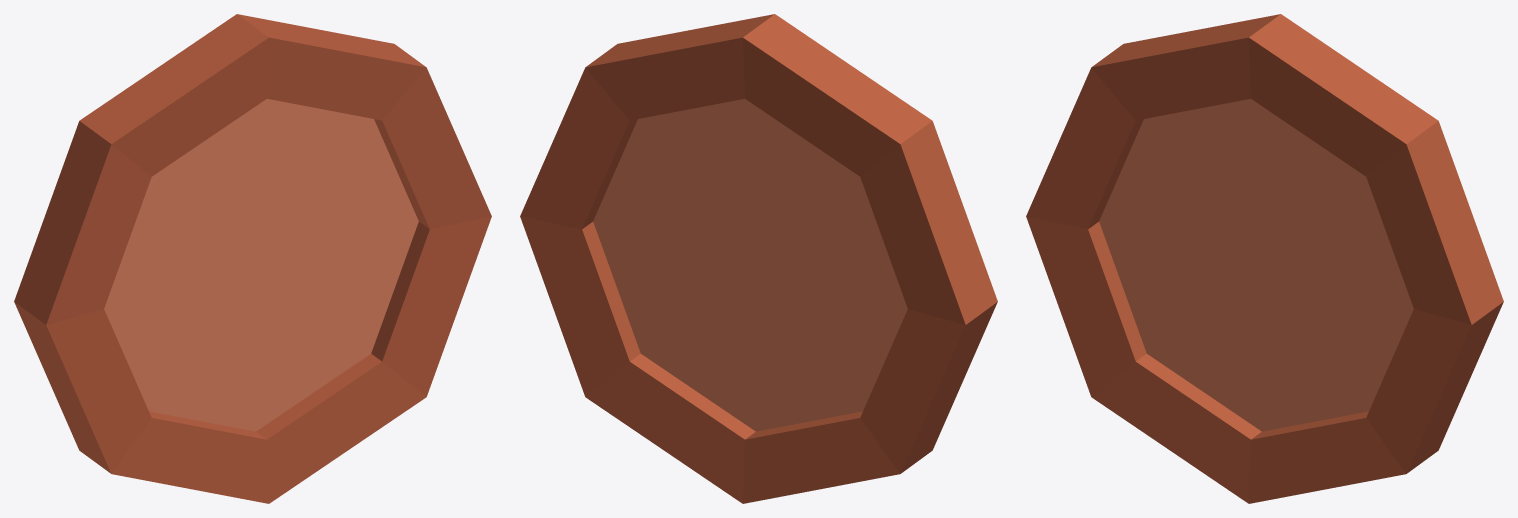
File: 003_Bronze_Coin.fbx
3 views of the same model, side by side, from view 1: azimuth 30°, elevation 25°; view 2: azimuth 150°, elevation 25°; view 3: azimuth 330°, elevation 25° (orthographic).
Parts seen in each view (by area): view 1: Bronze Coin; view 2: Bronze Coin; view 3: Bronze Coin.
Boxes of the visible parts, x1,y1,x2,y2 form: Bronze Coin: (14,14,491,503); Bronze Coin: (520,14,997,503); Bronze Coin: (1026,14,1503,503).
Bounding box in the file's own units: 40 × 40 × 5.
